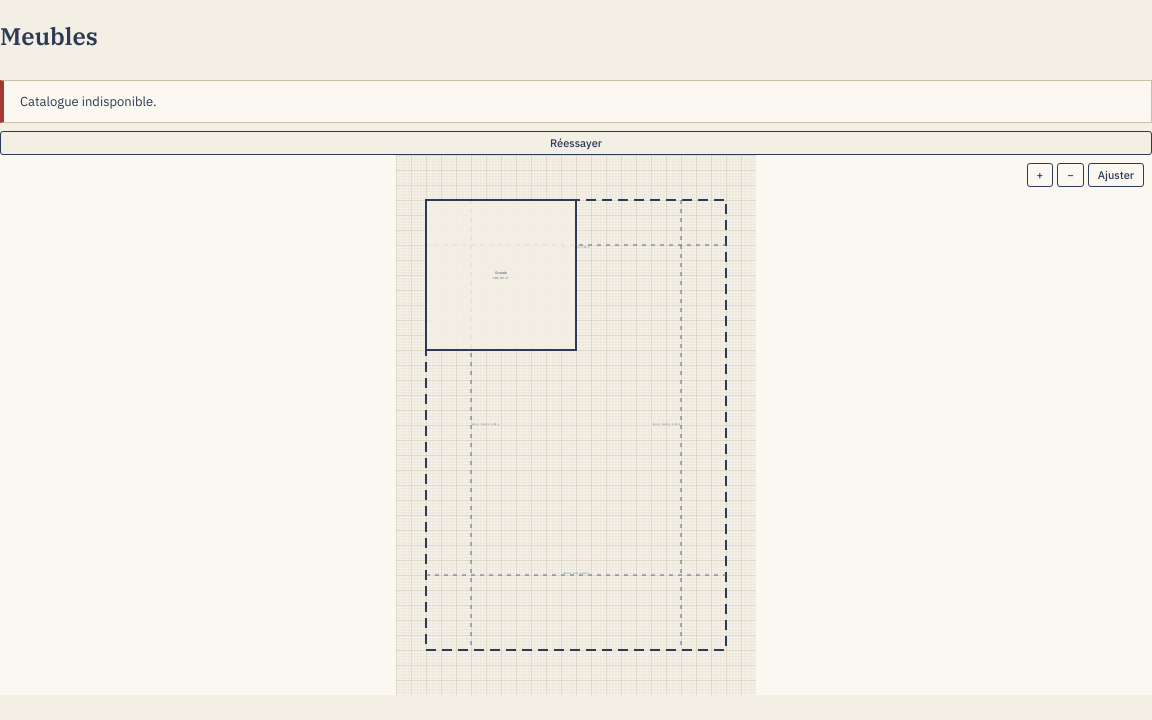
palette du catalogue › catalogue en erreur : message + Réessayer, le plan fonctionne
Expected: the text "Catalogue indisponible." is shown, [20,93,156,110]
Expected: the button "Réessayer" is shown, [0,131,1151,155]
Press the mouse on the picture named "Plan du projet" at (576, 425), box [0,155,1151,695]
Click the button "Réessayer" at (576, 143), box [0,131,1151,155]
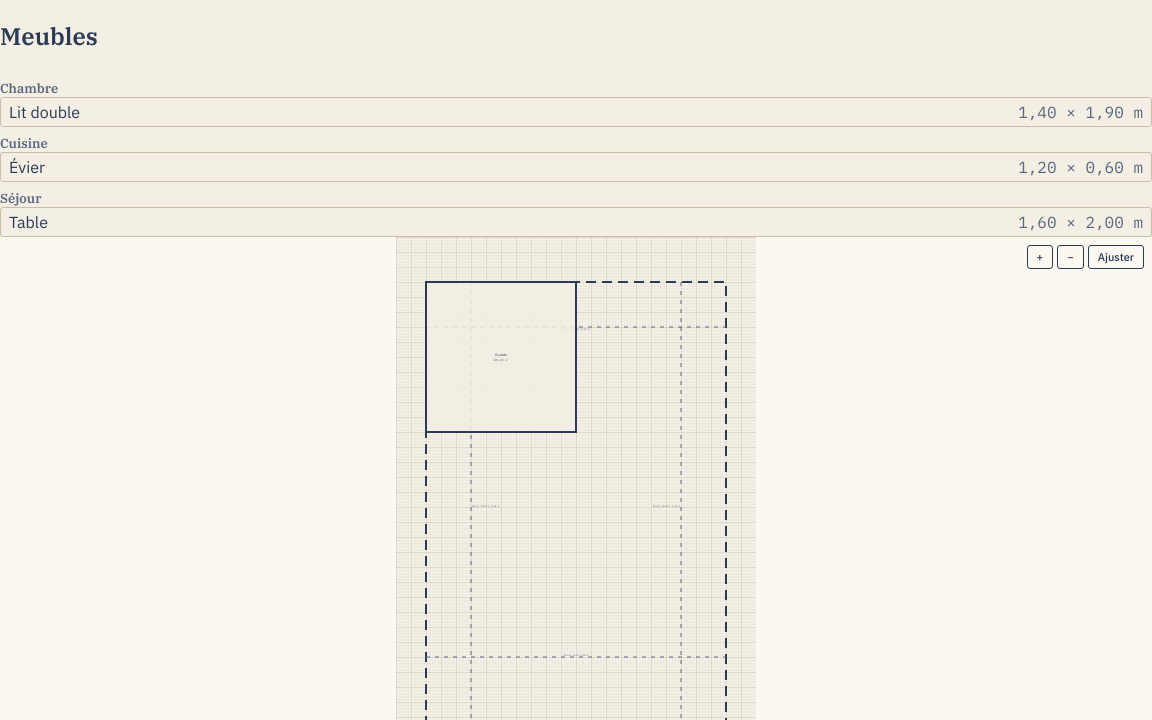
Result: the button "Lit double 1,40 × 1,90 m" is shown at [0,97,1151,127]
